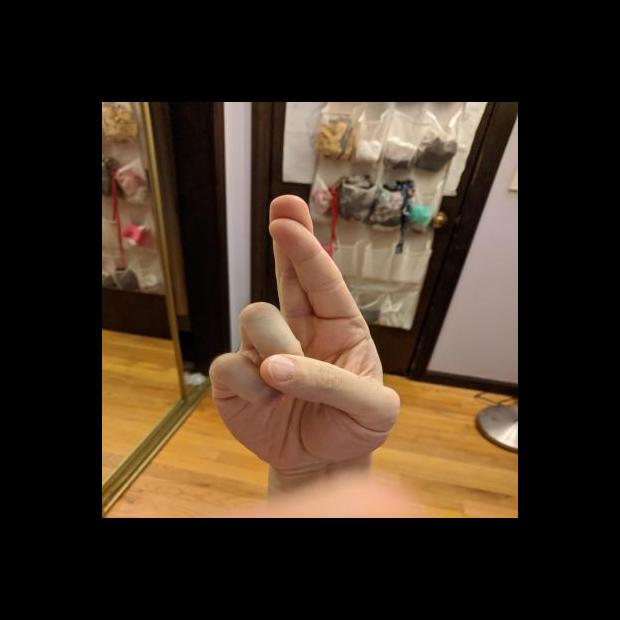Q: (204, 192, 410, 484)
